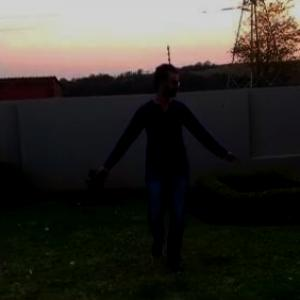land: (85, 60, 242, 278)
